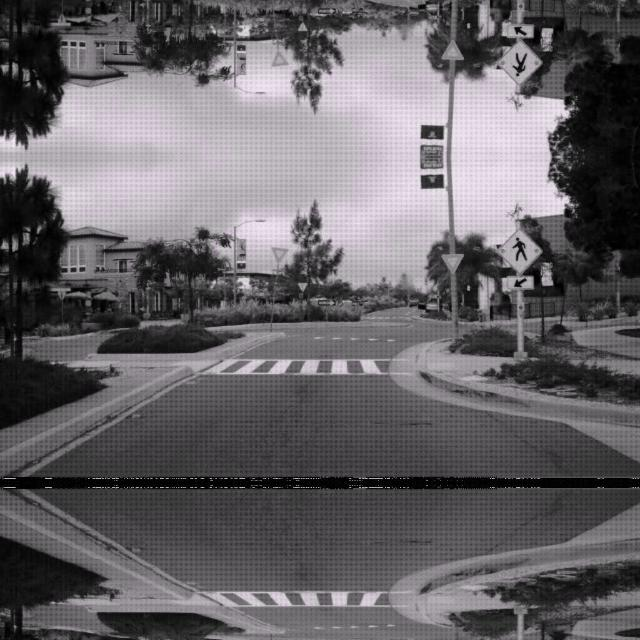pedestrianCrossing: (496, 226, 542, 274), (496, 38, 542, 86)
yield: (440, 252, 464, 272), (440, 40, 464, 60), (271, 245, 289, 261), (271, 51, 289, 67)
